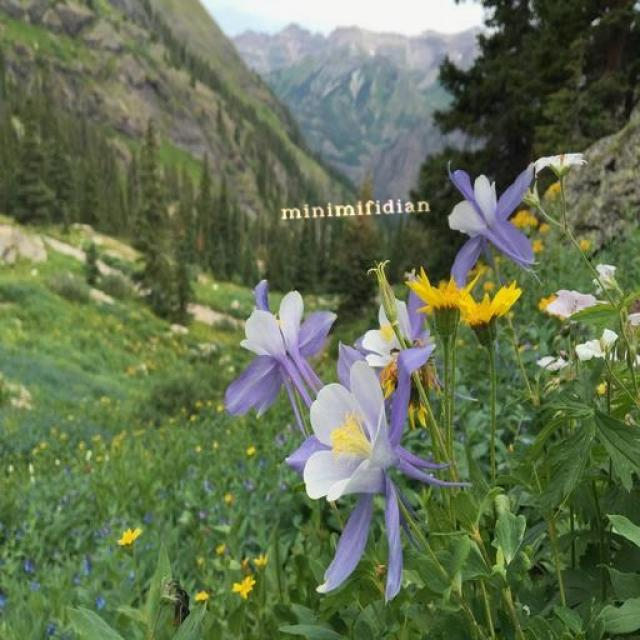watermark: (275, 196, 431, 220)
